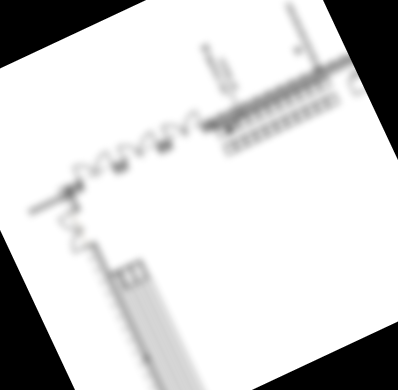double door: (54, 206, 99, 257), (69, 150, 119, 194), (159, 108, 209, 151), (115, 129, 164, 172)
wall: (87, 241, 182, 390), (200, 54, 354, 135), (25, 191, 69, 217), (65, 193, 80, 210)
